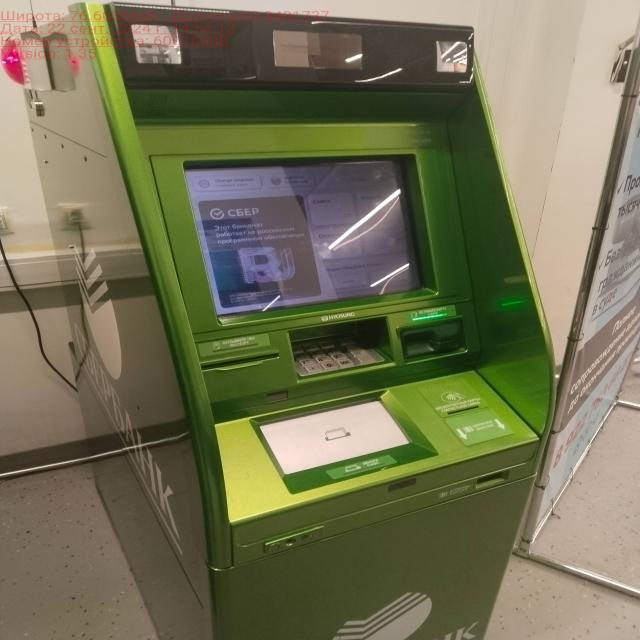bank: (18, 1, 564, 640)
